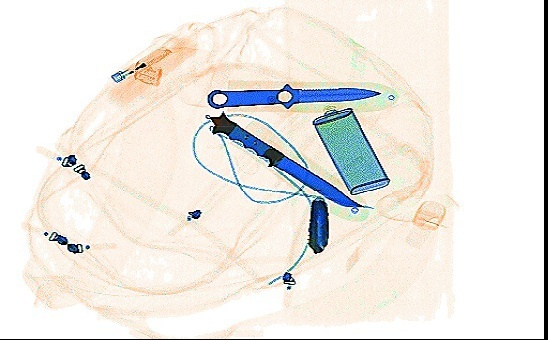knife: (202, 107, 365, 212), (203, 83, 384, 110), (306, 193, 329, 256)
lighter: (107, 44, 175, 85)
zippooil: (310, 105, 392, 195)
